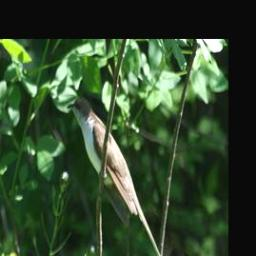Cuckoo: (68, 96, 167, 256)
